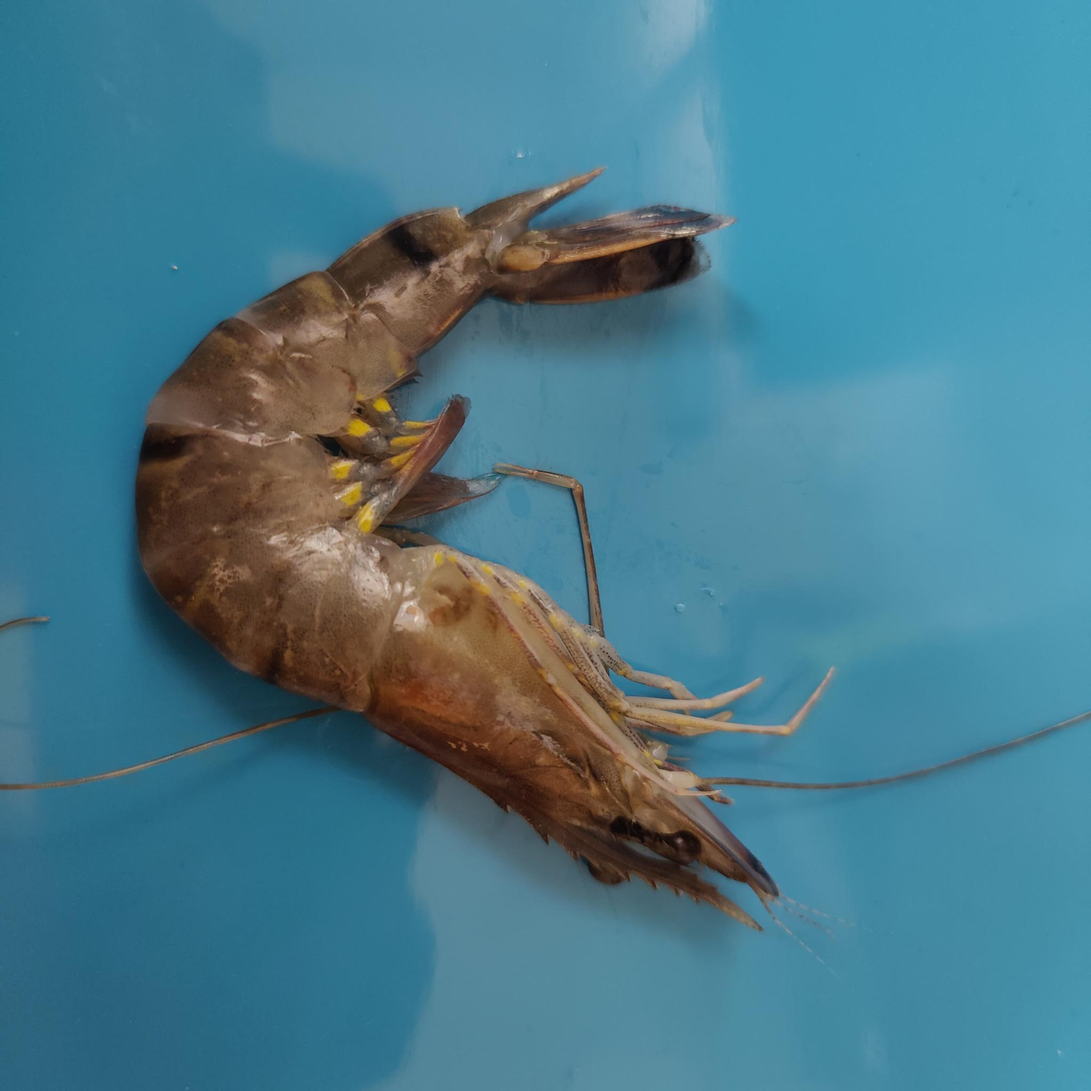whitespot: (167, 570, 348, 685), (390, 627, 544, 737), (183, 329, 282, 386), (436, 736, 494, 758)
